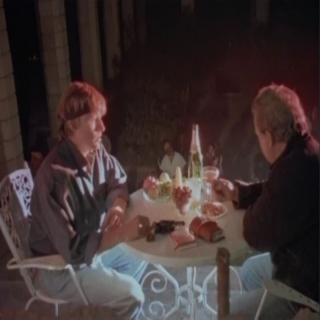gun: (145, 209, 189, 247)
